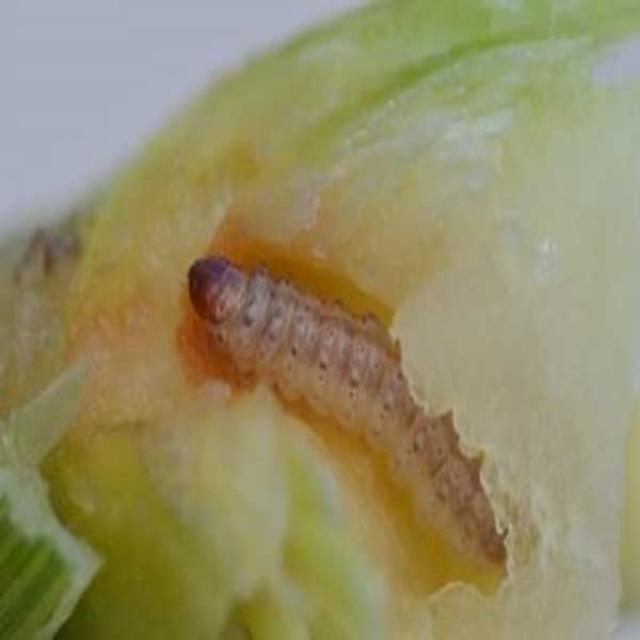cornborer-Larva-: (180, 240, 527, 577)
